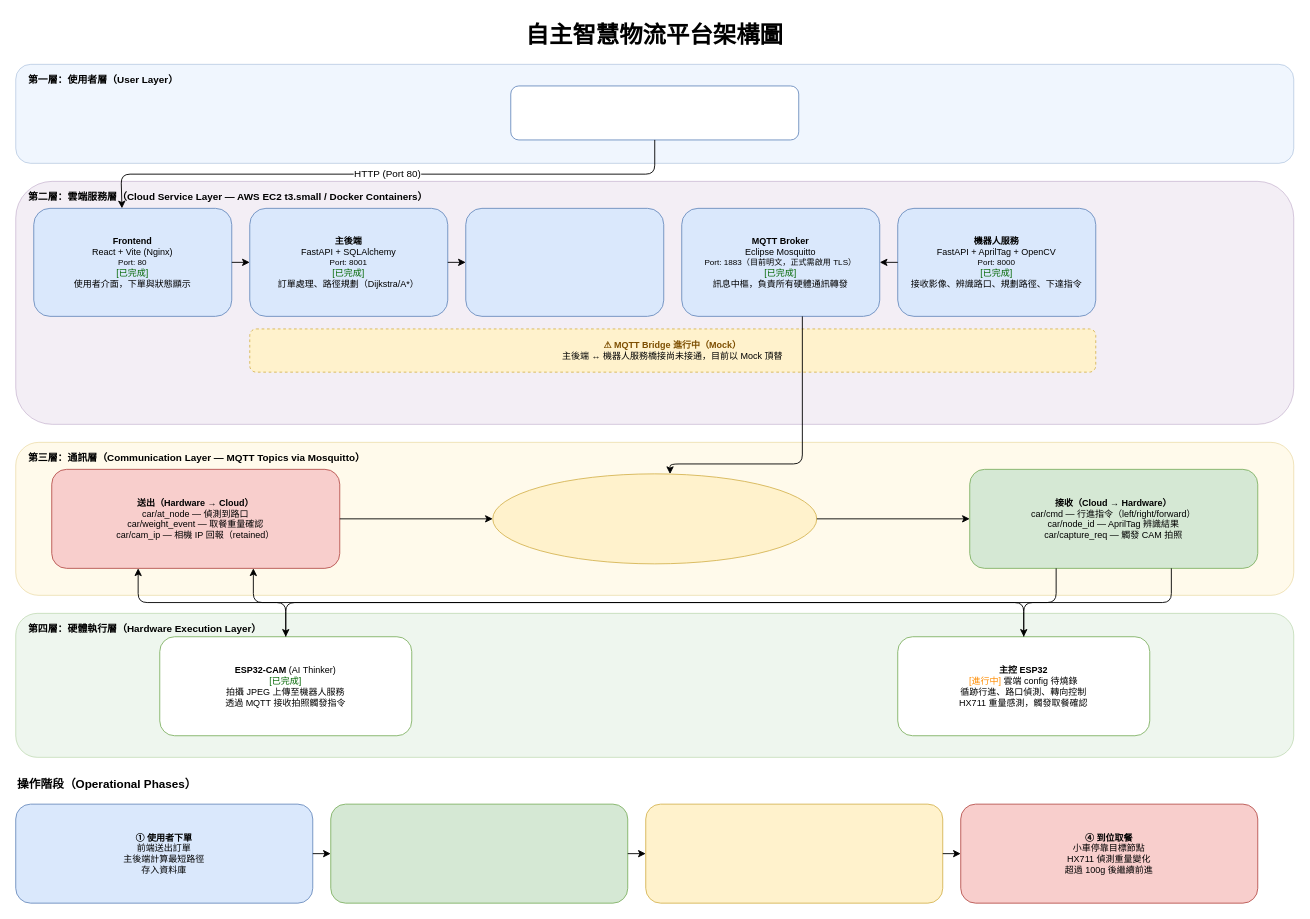
The diagram is 1310 pixels wide and 919 high, and some of its shapes have lost their labels. The box of each missing label's shape, as (x1, y1, x2, y2) in pixels:
Mosquitto MQTT Broker: (492, 473, 817, 564)
② 路段循跡 主控 ESP32 沿黑線前進 左右感測器同時觸發 代表抵達路口: (330, 803, 628, 903)
③ 路口辨識 ESP32-CAM 拍照上傳 AprilTag 辨識節點編號 NetworkX 規劃下一步 MQTT 下達轉向指令: (645, 803, 943, 903)
使用者瀏覽器 透過前端介面下單、查看訂單狀態: (510, 85, 799, 140)
資料庫 PostgreSQL Port: 5432 [已完成] 儲存訂單、商店、商品、使用者資料: (465, 207, 664, 316)
